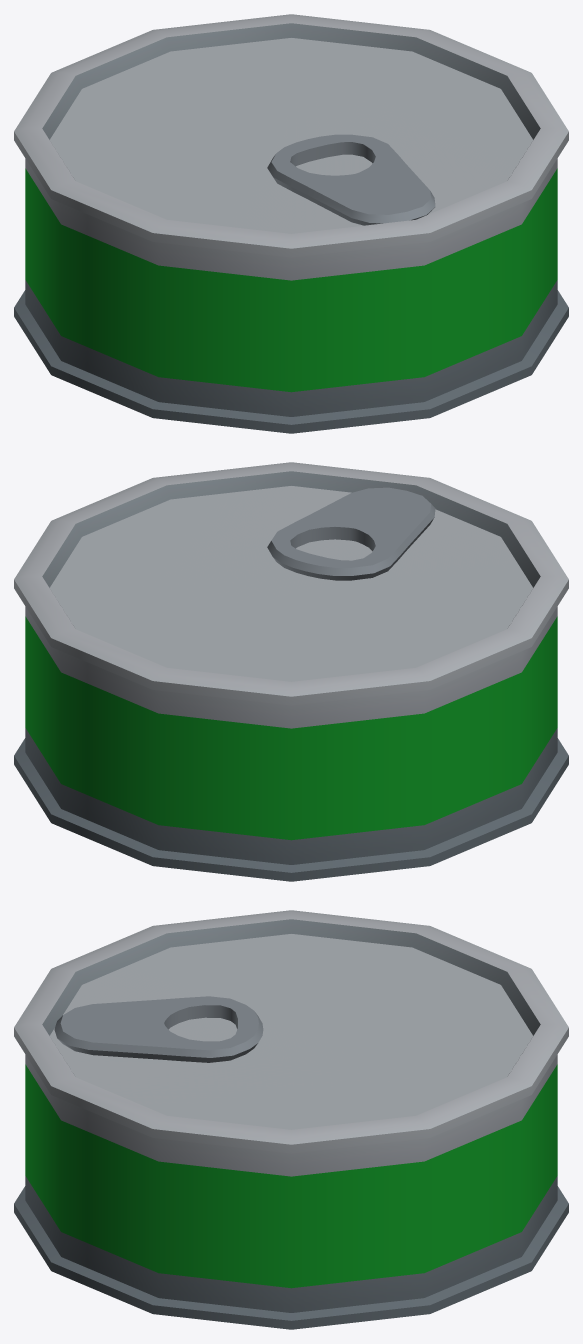
The model's file is Tin_04.fbx.
3 views of the same model, one above another, from view 1: azimuth 30°, elevation 25°; view 2: azimuth 150°, elevation 25°; view 3: azimuth 270°, elevation 25° (orthographic).
Visible parts, largest first — view 1: Tin_04; view 2: Tin_04; view 3: Tin_04.
Boxes of the visible parts, bbox=[...] form: Tin_04: bbox=[14, 14, 568, 433]; Tin_04: bbox=[14, 462, 568, 881]; Tin_04: bbox=[14, 910, 568, 1329].
Size of the model in its own units: 93.3 by 93.3 by 35.64.
